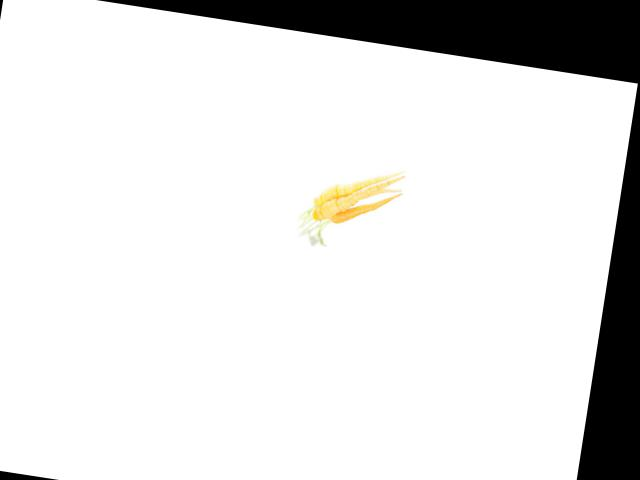carrot: (308, 155, 405, 220)
